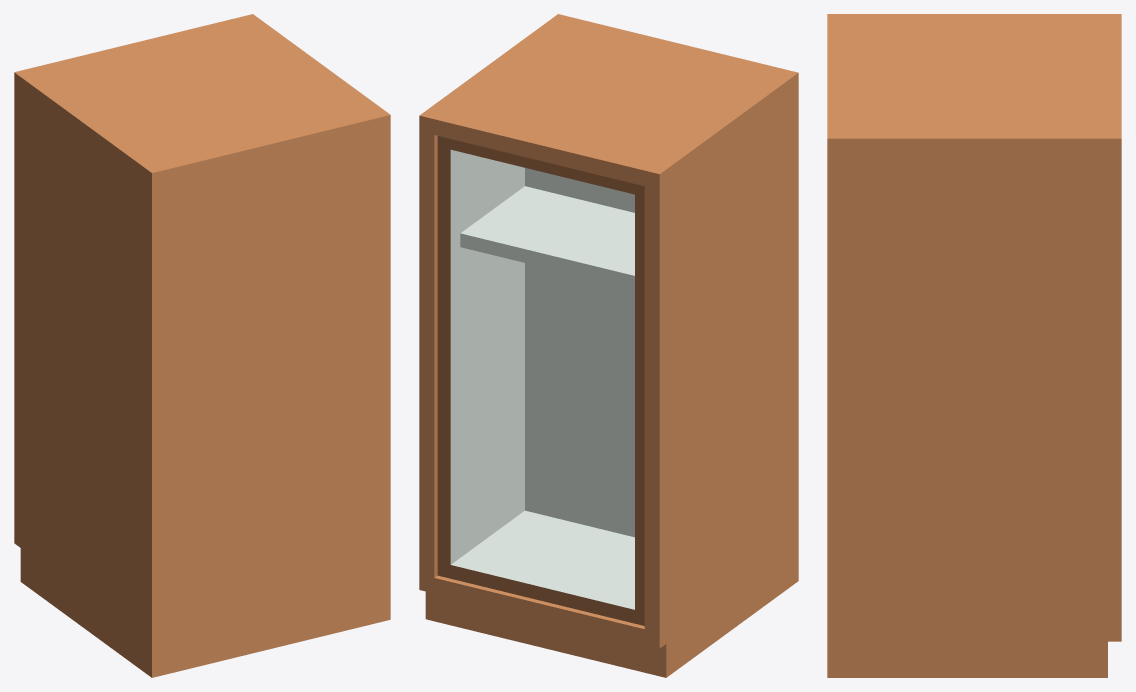
The model's file is KitchenFridgeBuiltIn.glb.
3 renders of one model, left to right at view 1: azimuth 30°, elevation 25°; view 2: azimuth 150°, elevation 25°; view 3: azimuth 270°, elevation 25°, orthographic. The views are drawn at different scales.
Parts seen in each view (by area): view 1: KitchenFridgeBuiltIn; view 2: KitchenFridgeBuiltIn; view 3: KitchenFridgeBuiltIn.
Part boxes in pixels (<box>): KitchenFridgeBuiltIn: <box>14,14,390,677</box>; KitchenFridgeBuiltIn: <box>419,14,798,677</box>; KitchenFridgeBuiltIn: <box>827,14,1121,677</box>.
Bounding box in the file's own units: 0.9623 × 1.94 × 0.9623.
